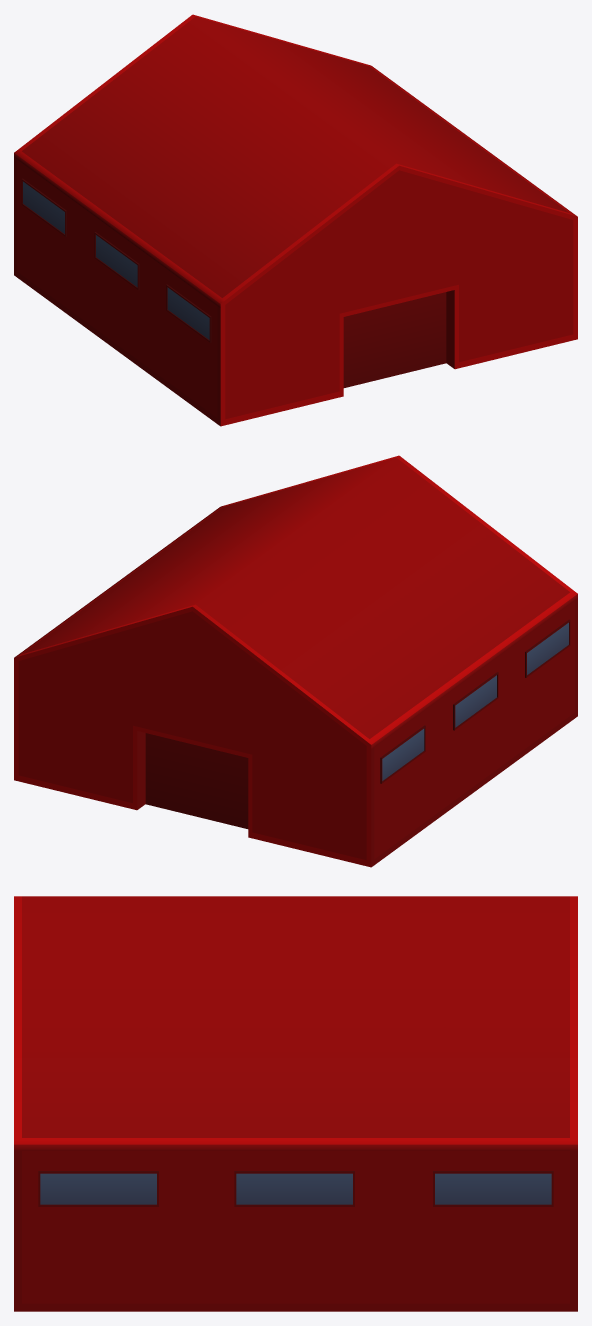
Rendered from buildings-industrial-warehouse_v3.fbx.
3 renders of one model, top to bottom at view 1: azimuth 30°, elevation 25°; view 2: azimuth 150°, elevation 25°; view 3: azimuth 270°, elevation 25°, orthographic. The views are drawn at different scales.
Visible parts, largest first — view 1: Warehouse_v3_base, Warehouse_v3_windowRefl; view 2: Warehouse_v3_base, Warehouse_v3_windowRefl; view 3: Warehouse_v3_base, Warehouse_v3_windowRefl.
Boxes of the visible parts, <box> form: Warehouse_v3_base: <box>14,14,577,426</box>; Warehouse_v3_windowRefl: <box>23,181,209,339</box>; Warehouse_v3_base: <box>14,455,577,867</box>; Warehouse_v3_windowRefl: <box>382,622,568,780</box>; Warehouse_v3_base: <box>14,896,577,1311</box>; Warehouse_v3_windowRefl: <box>40,1173,551,1204</box>.
Size of the model in its own units: 23.51 by 13.55 by 23.35.
